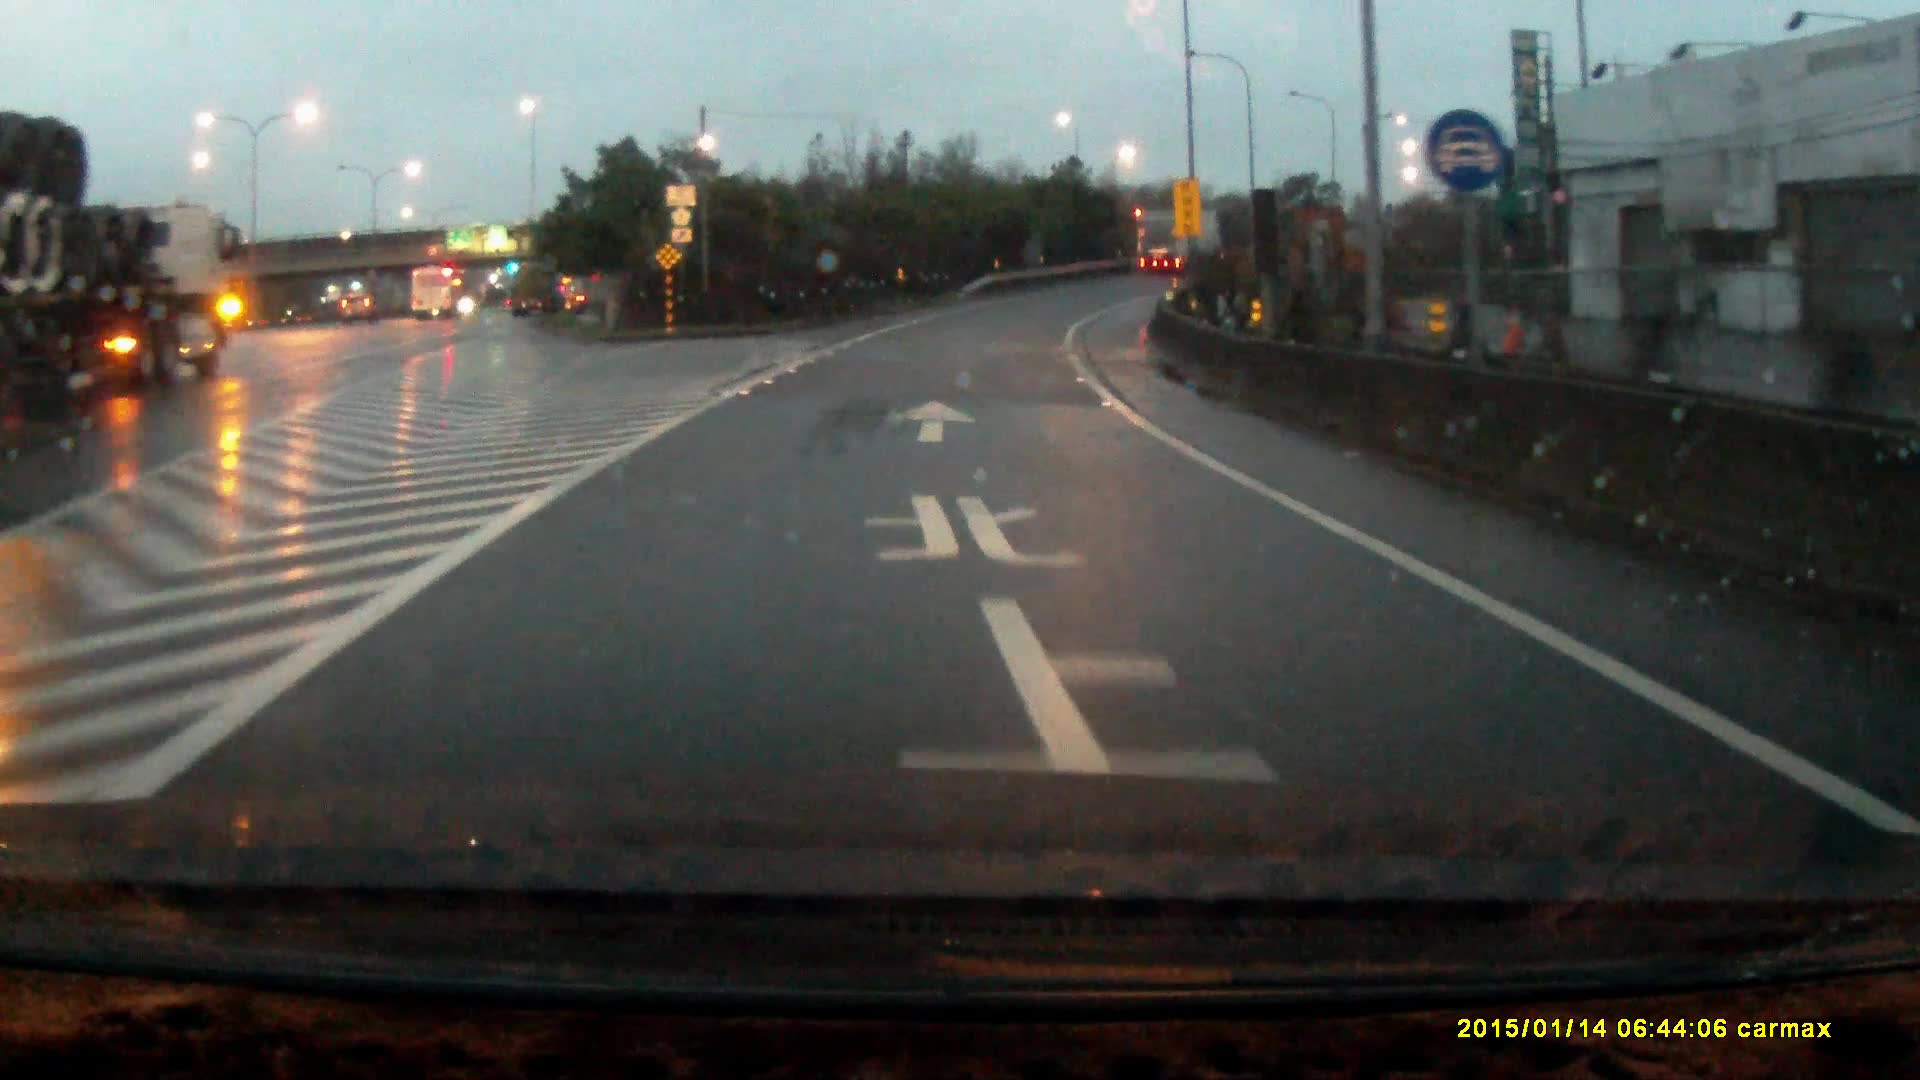vehicle: (1, 113, 239, 400), (1135, 211, 1228, 280), (411, 266, 469, 320), (340, 293, 376, 324)
